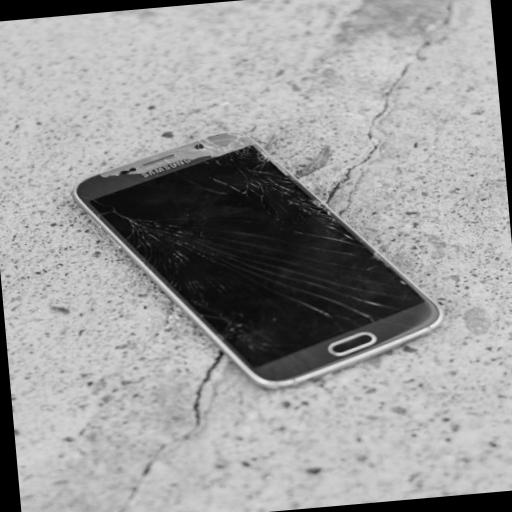phone: (64, 111, 458, 400)
